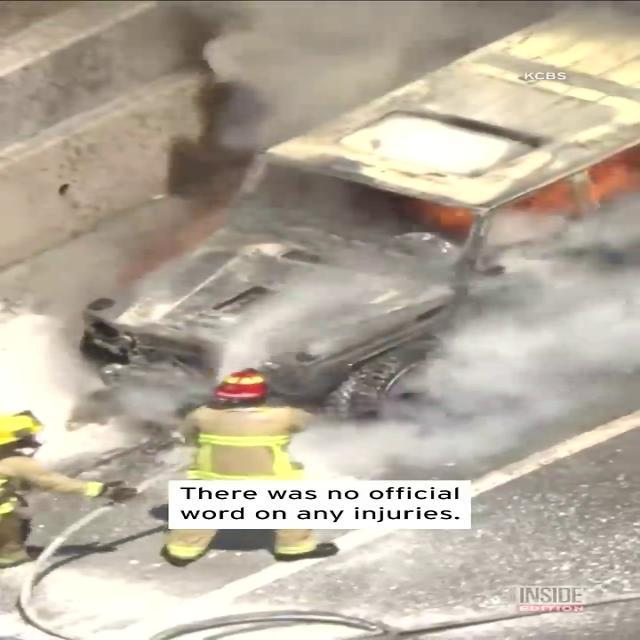Smoke: (2, 227, 640, 400), (137, 0, 486, 157)
